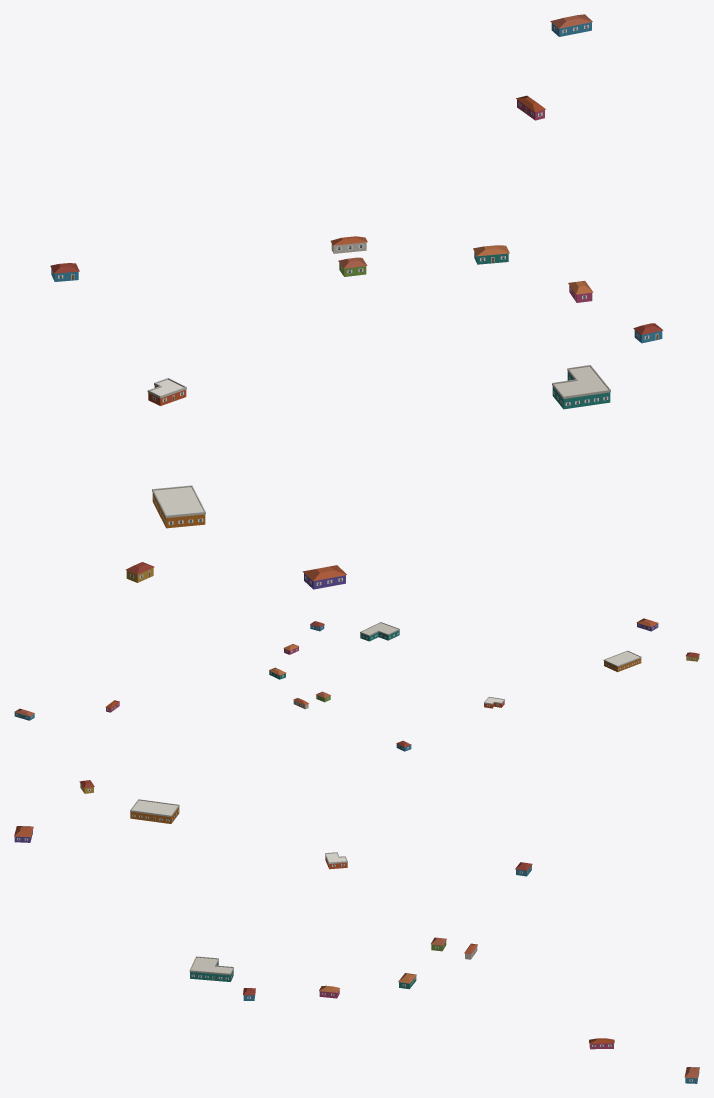
File: msb_oranjestad_m17_m2.glb
The picture shows the model from 3 angles, top to bottom: view 1: azimuth 30°, elevation 25°; view 2: azimuth 150°, elevation 25°; view 3: azimuth 270°, elevation 25°; orthographic projection. The views are drawn at different scales.
Visible parts, largest first — view 1: msb_oranjestad_m17_m2_lod0; view 2: msb_oranjestad_m17_m2_lod0; view 3: msb_oranjestad_m17_m2_lod0.
Part boxes in pixels (<box>): msb_oranjestad_m17_m2_lod0: <box>50,14,663,589</box>; msb_oranjestad_m17_m2_lod0: <box>14,618,699,751</box>; msb_oranjestad_m17_m2_lod0: <box>14,780,699,1083</box>.
Size of what is drawn, in the model's own units: 377 by 12.87 by 366.
3 materials, 1 textured.
